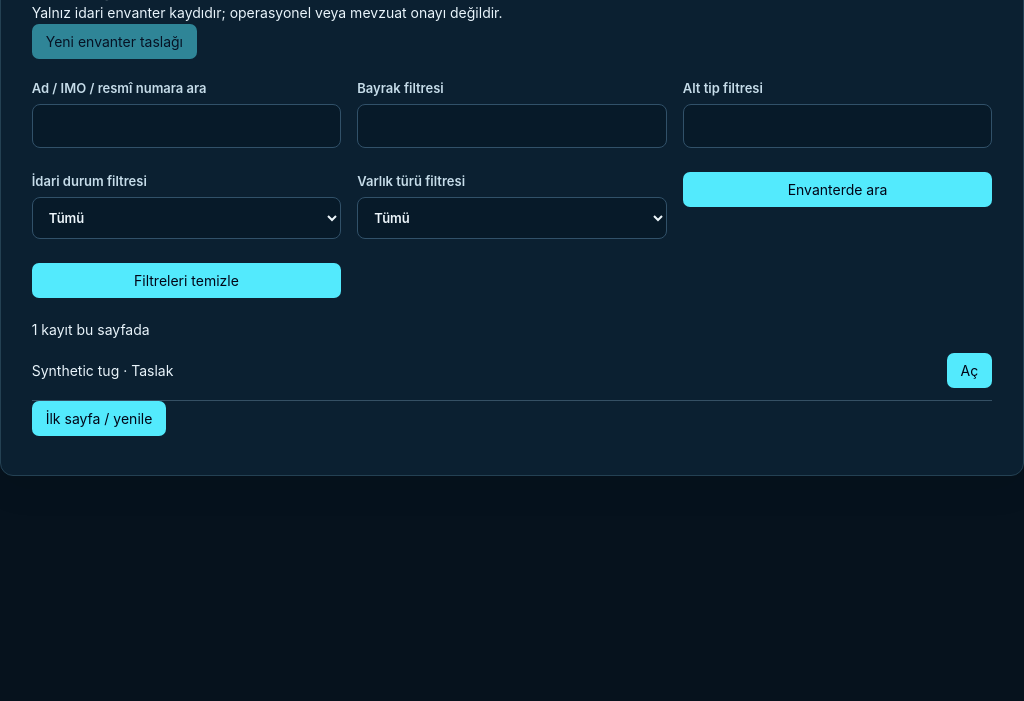
administrative inventory UI › read-only capability retains detail/history but disables mutation
This screenshot has width=1024, height=701.
Click the button "Aç": click(969, 371) [947, 353, 992, 388]
(page scrolled)
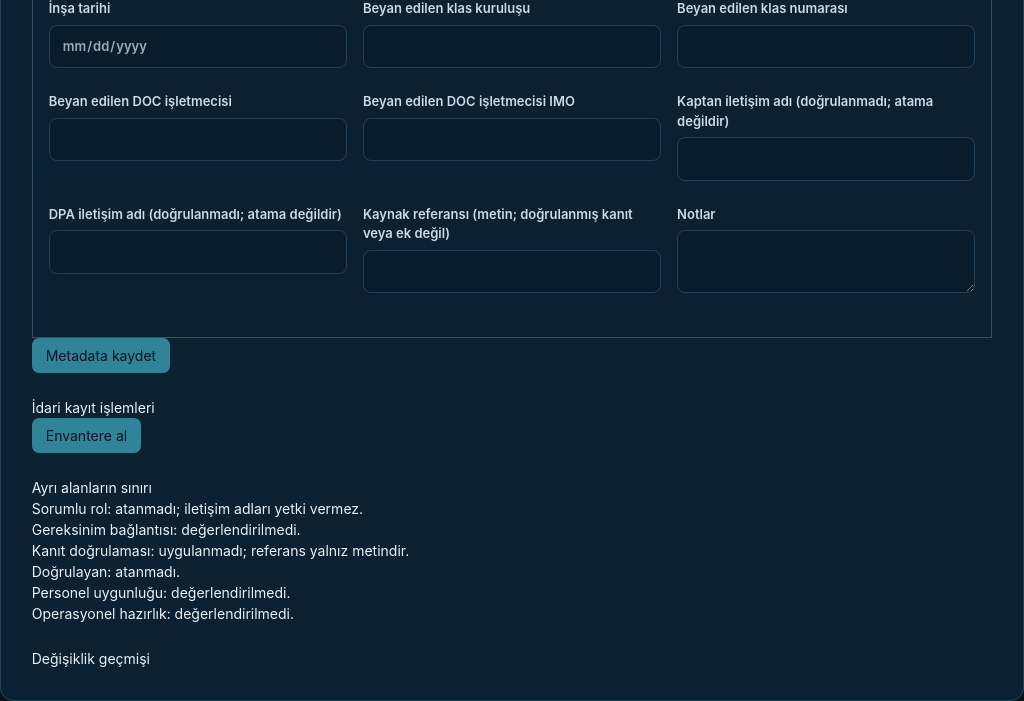
expect the button "Metadata kaydet" is disabled: met, box [32, 338, 170, 373]
expect the button "Envantere al" is disabled: met, box [32, 418, 141, 453]
expect the heading "Değişiklik geçmişi" is shown: met, box [32, 650, 150, 667]
